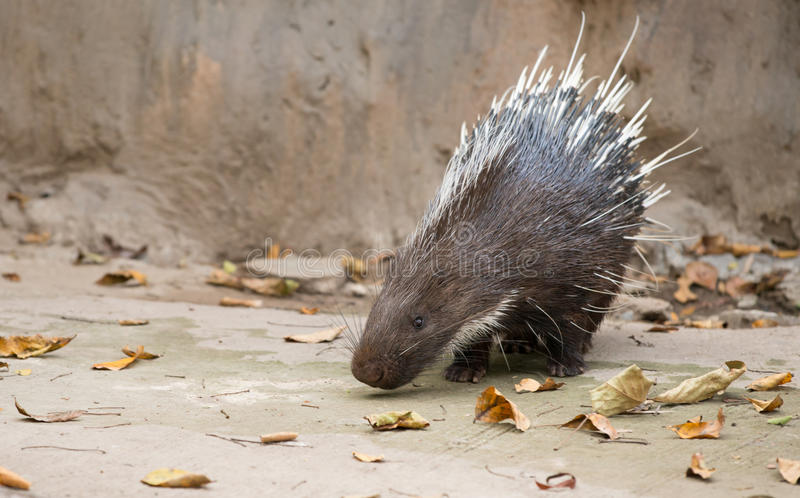porcupine: (343, 57, 645, 395)
